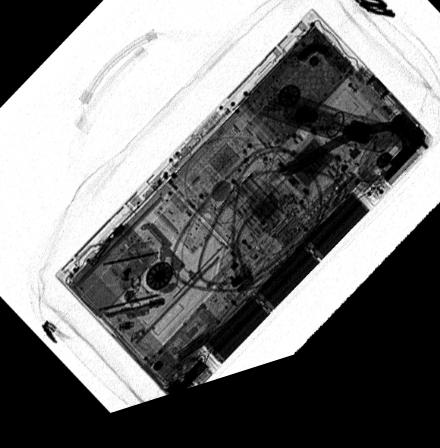Baton: (246, 99, 394, 178)
